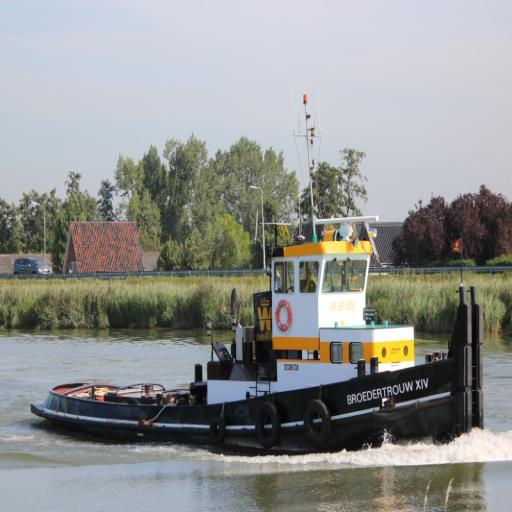tugboat: (26, 208, 489, 472)
